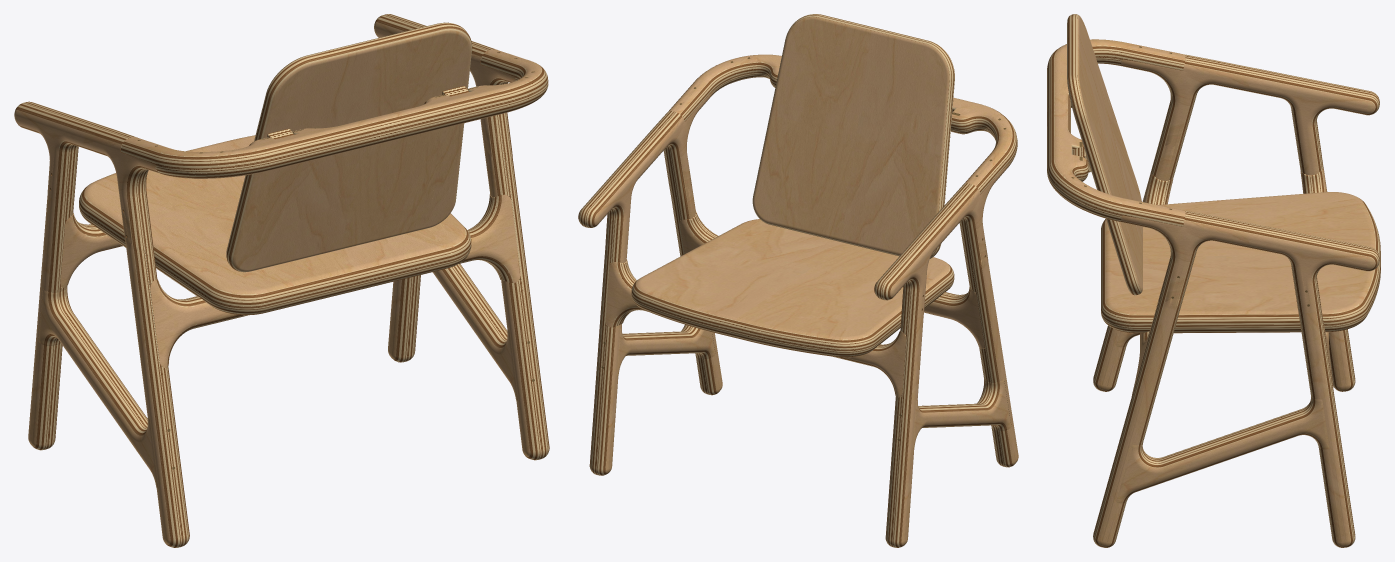
The model's file is lounge-chair.glb.
The picture shows the model from 3 angles, left to right: view 1: azimuth 30°, elevation 25°; view 2: azimuth 150°, elevation 25°; view 3: azimuth 270°, elevation 25°; orthographic projection. The views are drawn at different scales.
Visible parts, largest first — view 1: Gazelle_Lounge_Chair; view 2: Gazelle_Lounge_Chair; view 3: Gazelle_Lounge_Chair.
Part boxes in pixels (x1=…): Gazelle_Lounge_Chair: x1=14, y1=14, x2=549, y2=547; Gazelle_Lounge_Chair: x1=578, y1=14, x2=1018, y2=547; Gazelle_Lounge_Chair: x1=1047, y1=14, x2=1380, y2=547.
Size of the model in its own units: 0.6426 by 0.7629 by 0.5461.
3 materials, 2 textured.
